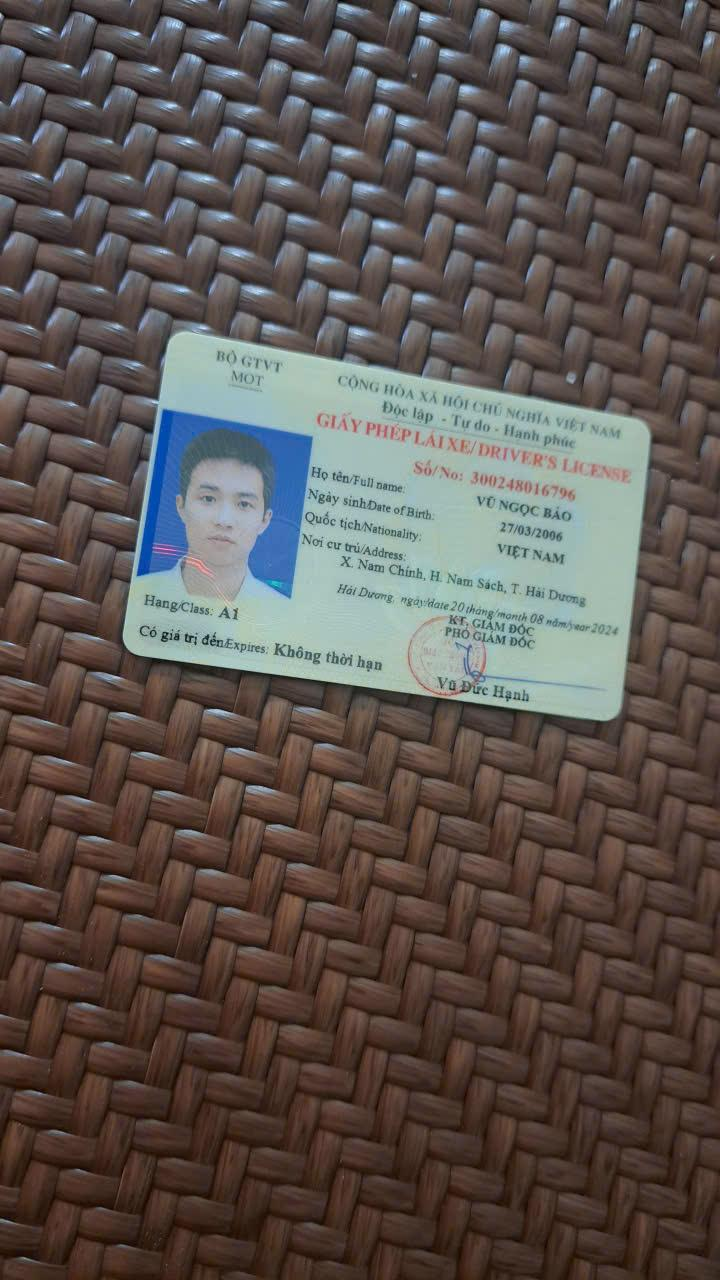gplx: (120, 321, 660, 730)
